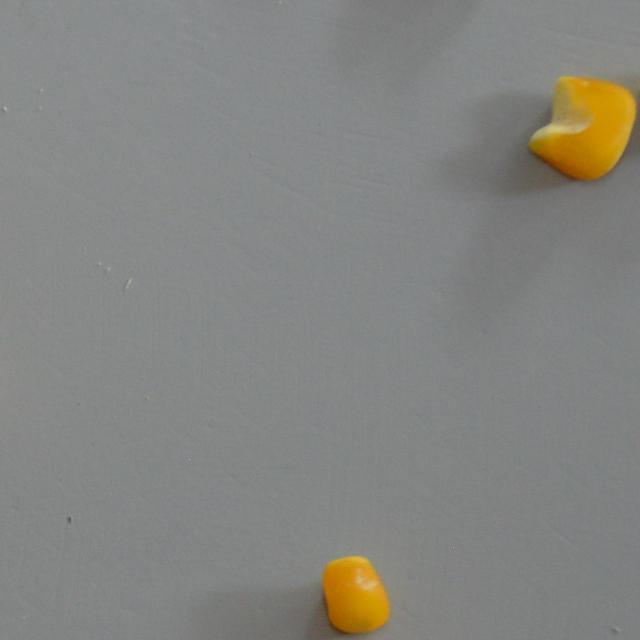no_canjicado: (524, 74, 638, 182), (322, 554, 392, 638)
